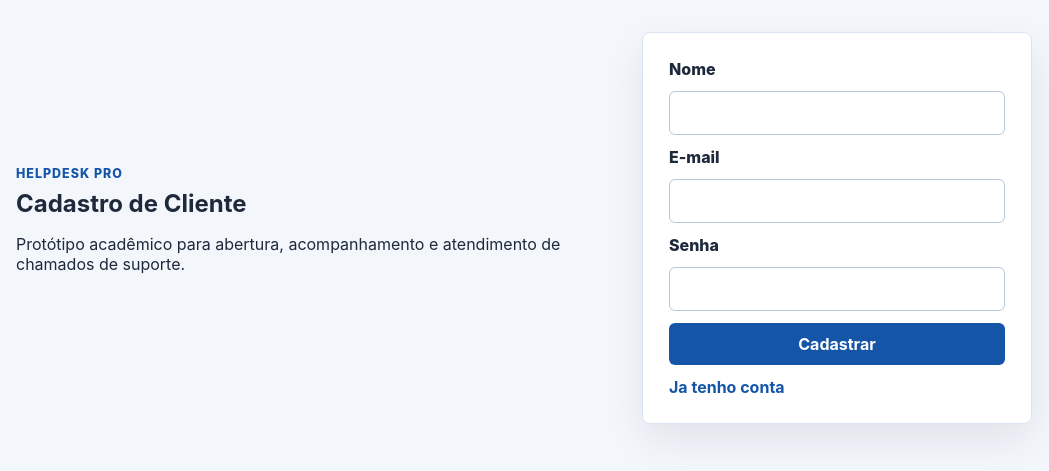
it: HelpDesk Pro - Casos de Teste › CT002 - Cadastro utilizando e-mail ja cadastrado
This screenshot has width=1049, height=471.
Type "Maria Silva" into the field with id "name" at (837, 113), box [669,91,1005,135]
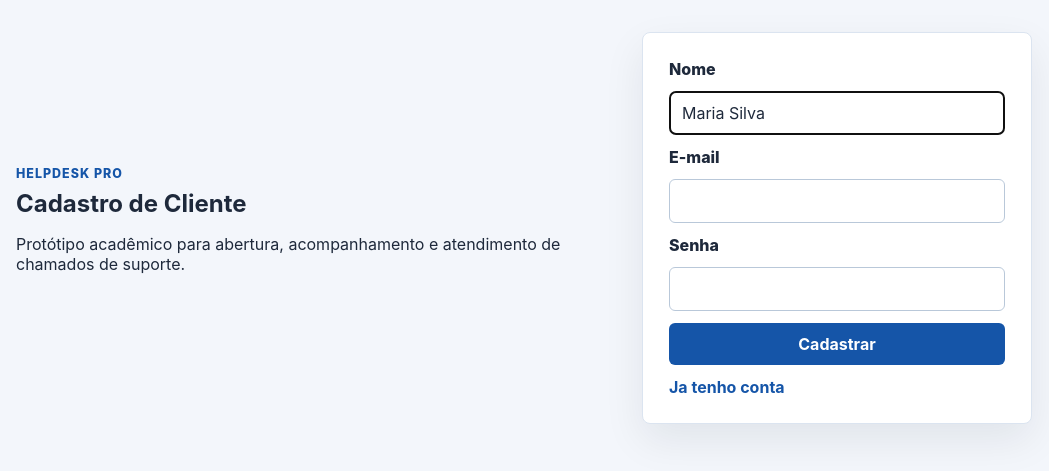
Type "cliente@teste.com" into the field with id "register-email" at (837, 201), box [669,179,1005,223]
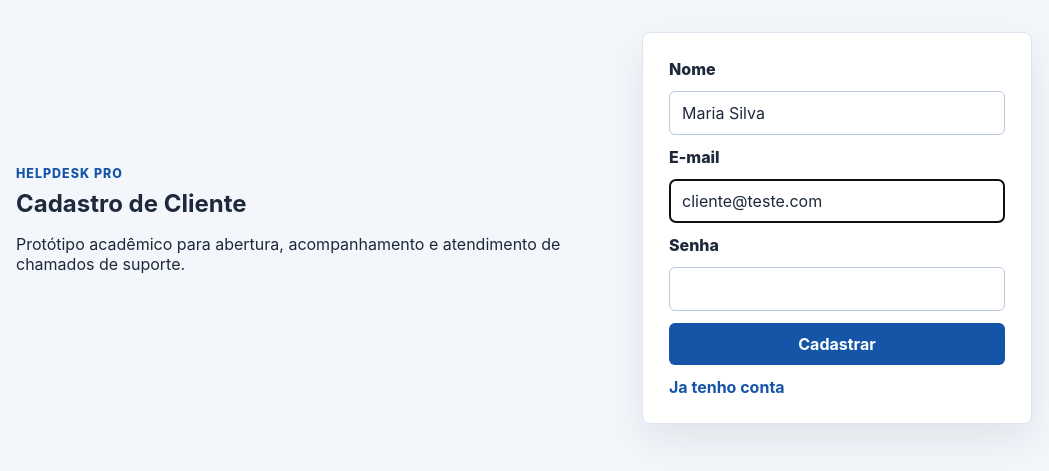
Type "123456" into the password field with id "register-password" at (837, 289), box [669,267,1005,311]
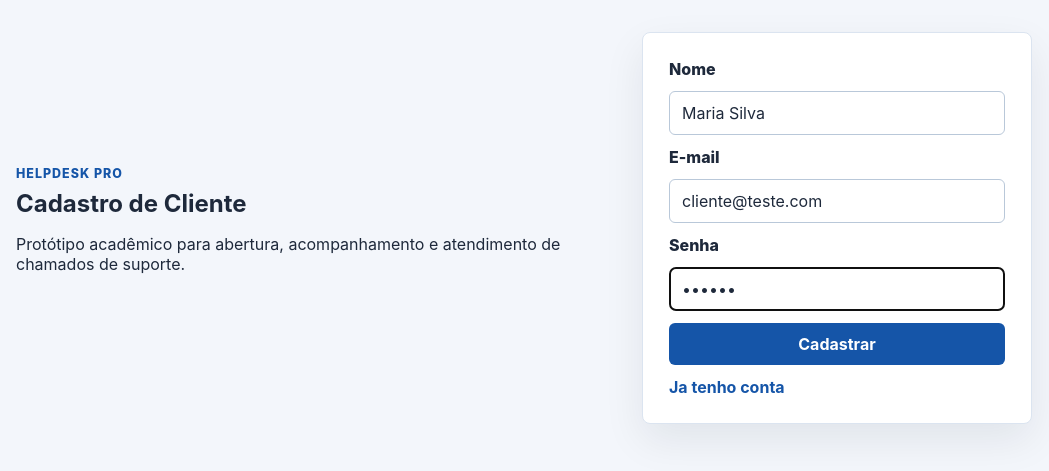
Click the button "Cadastrar" at (837, 344), box [669,323,1005,365]
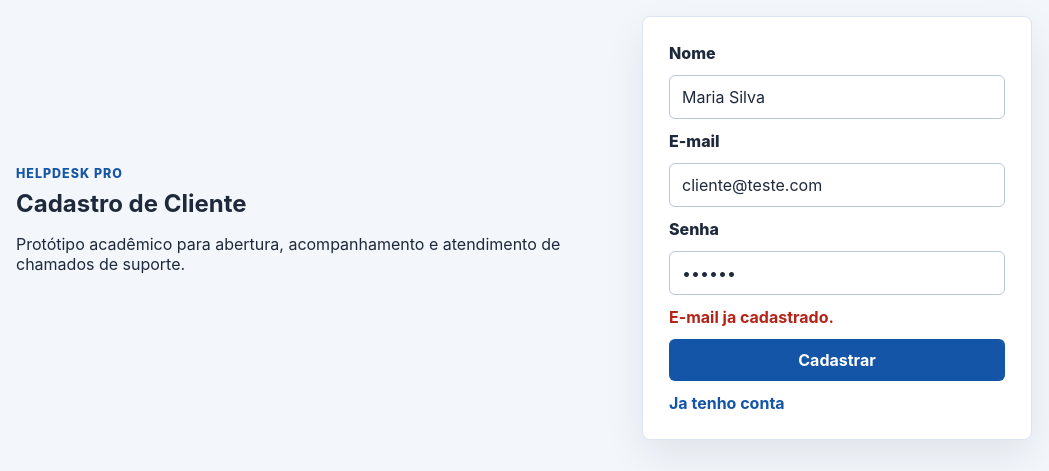
Check: the text "E-mail ja cadastrado." is shown, box [669,307,834,327]
